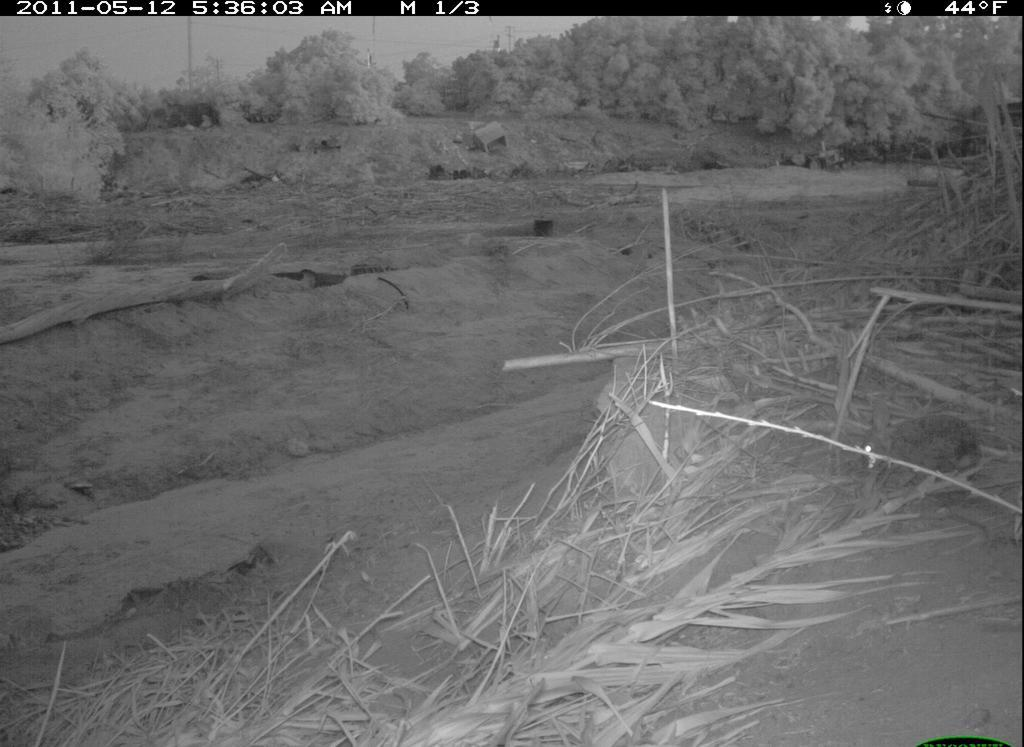rabbit: (852, 393, 986, 493)
